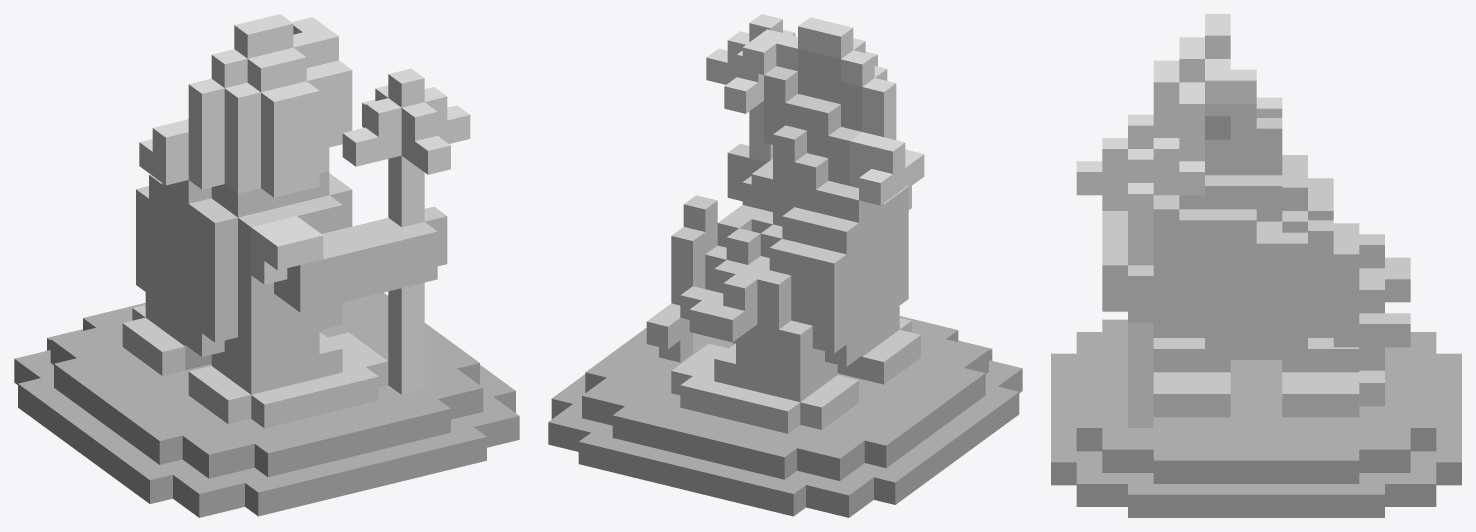
File: BrokenGuardStatue.obj
3 views of the same model, side by side, from view 1: azimuth 30°, elevation 25°; view 2: azimuth 150°, elevation 25°; view 3: azimuth 270°, elevation 25° (orthographic). The views are drawn at different scales.
Size of the model in its own units: 16 by 17 by 16.
Materials: 1 (1 with a texture image).
